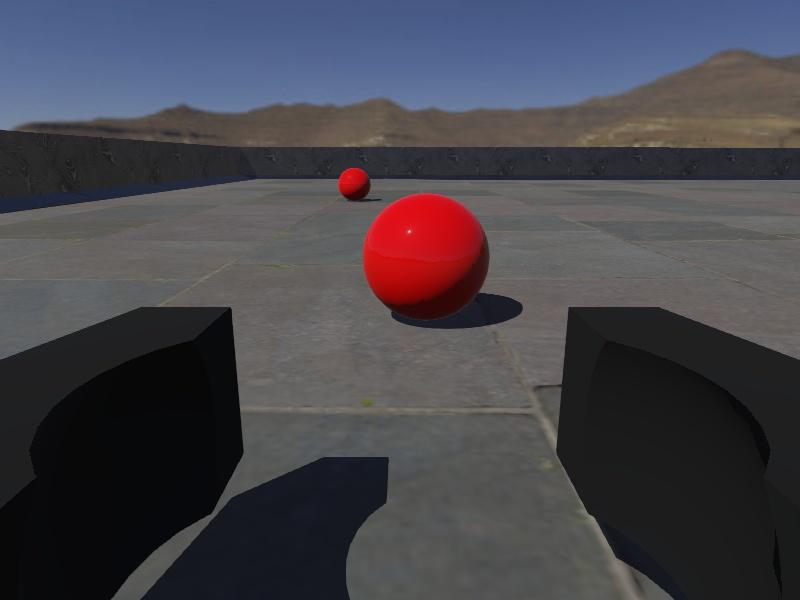red ball: (362, 192, 492, 322), (337, 166, 372, 204)
